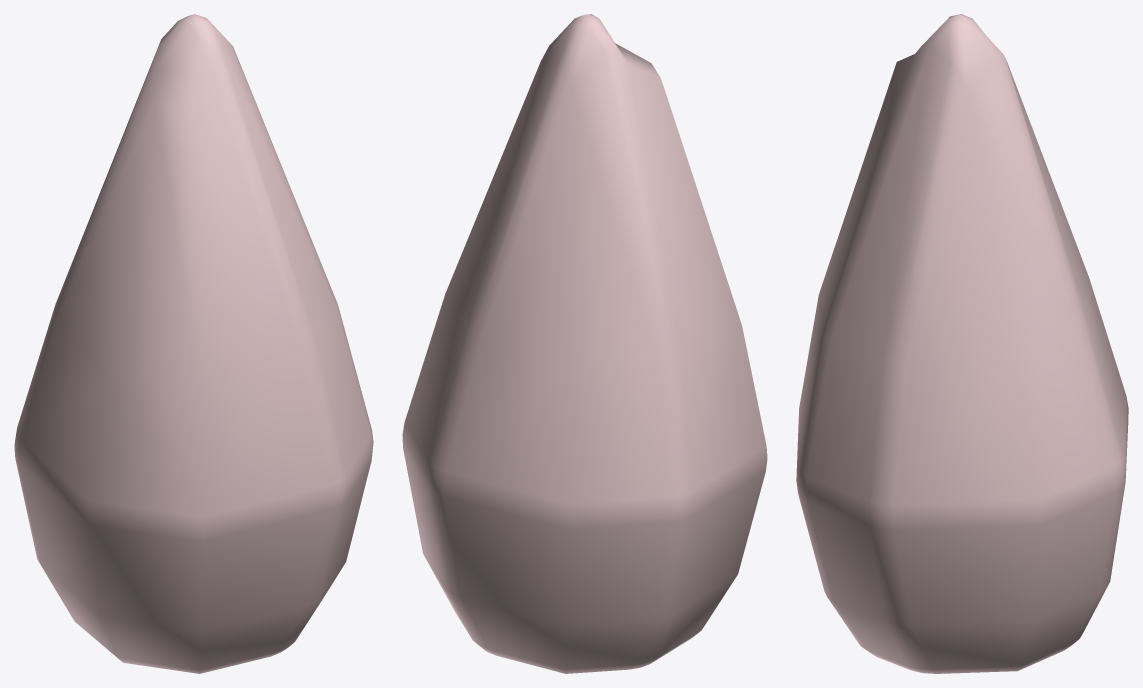
Rendered from SM_Crystal_04.fbx.
3 views of the same model, side by side, from view 1: azimuth 30°, elevation 25°; view 2: azimuth 150°, elevation 25°; view 3: azimuth 270°, elevation 25° (orthographic).
Visible parts, largest first — view 1: SM_Crystal_04; view 2: SM_Crystal_04; view 3: SM_Crystal_04.
Part boxes in pixels (<box>): SM_Crystal_04: <box>14,14,373,673</box>; SM_Crystal_04: <box>402,14,767,673</box>; SM_Crystal_04: <box>796,14,1128,673</box>.
Bounding box in the file's own units: 36.07 × 74.21 × 35.96.
